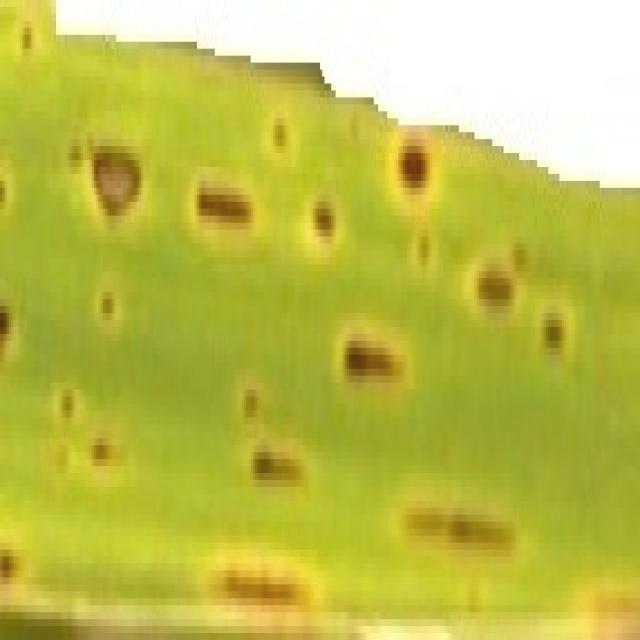Brownspot: (403, 506, 513, 554), (216, 568, 306, 608), (92, 147, 140, 216), (342, 334, 402, 381), (196, 182, 252, 228), (251, 444, 302, 485), (477, 264, 513, 309), (399, 140, 429, 191), (542, 310, 564, 351), (313, 199, 334, 240), (90, 436, 116, 467), (0, 548, 19, 584), (242, 387, 259, 418), (417, 232, 431, 266), (511, 242, 527, 271), (59, 389, 74, 419), (100, 291, 115, 321), (273, 118, 287, 150), (0, 304, 11, 344), (68, 144, 82, 166), (21, 24, 32, 50), (0, 179, 5, 205)
